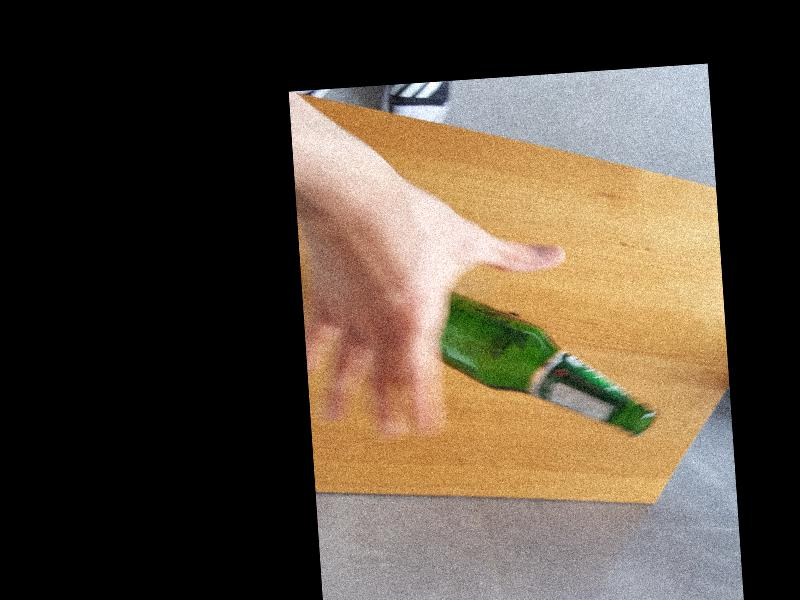Beer: (437, 277, 659, 448)
